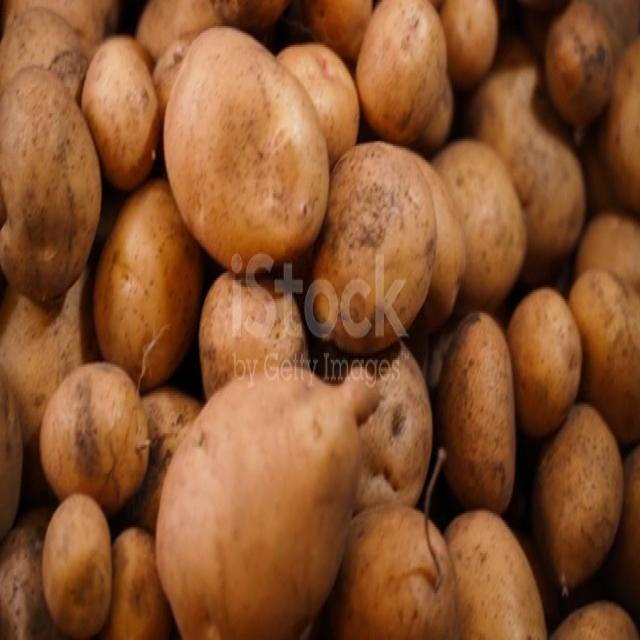potato: (156, 378, 375, 638), (164, 28, 328, 267), (305, 143, 436, 353), (468, 65, 585, 282), (0, 67, 101, 301), (94, 180, 204, 391), (532, 404, 624, 595), (330, 504, 458, 639), (40, 363, 148, 514), (432, 139, 526, 312), (438, 313, 516, 512), (349, 341, 432, 512), (199, 272, 308, 397), (356, 0, 448, 142), (445, 511, 546, 639), (569, 267, 640, 443), (81, 37, 159, 190), (508, 287, 582, 437), (278, 43, 360, 168), (42, 493, 111, 639), (412, 152, 466, 332), (0, 7, 89, 101), (545, 2, 612, 126), (100, 528, 171, 638), (601, 37, 640, 212), (441, 0, 499, 88), (1, 367, 22, 538), (551, 602, 638, 640)
